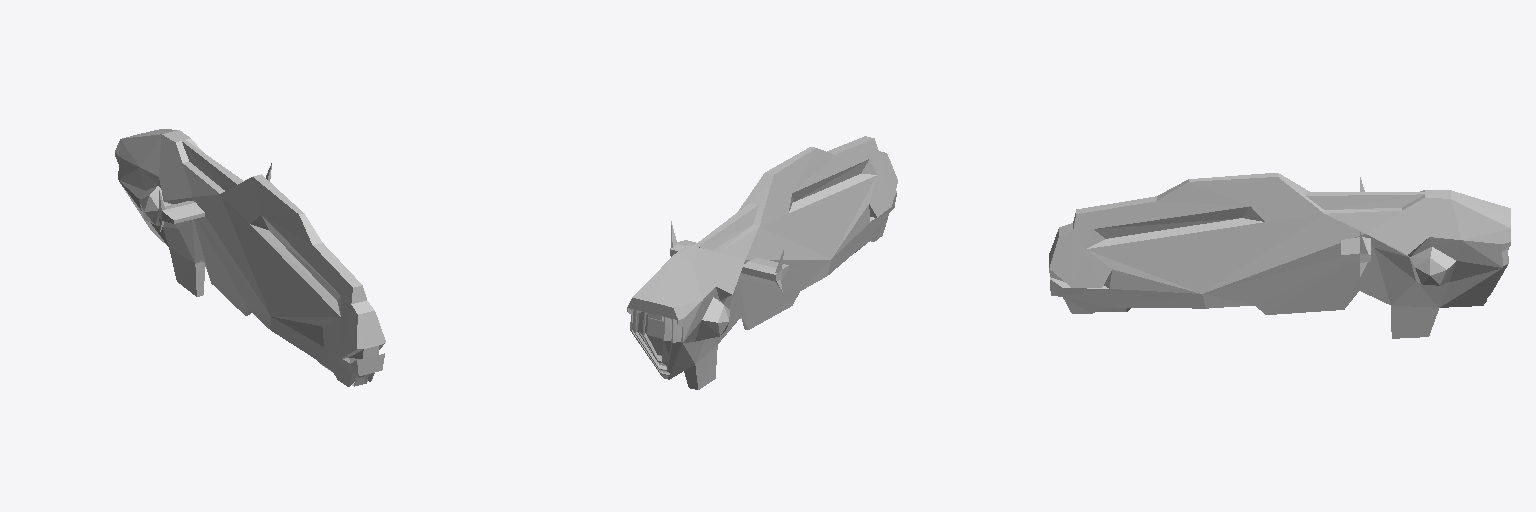
Rendered from LOD2-UVFlip.obj.
3 views of the same model, side by side, from view 1: azimuth 30°, elevation 25°; view 2: azimuth 150°, elevation 25°; view 3: azimuth 270°, elevation 25° (orthographic).
Visible parts, largest first — view 1: hw2Shader4; view 2: hw2Shader4, halfagain_haf_hw2Shader1; view 3: hw2Shader4.
Boxes of the visible parts, x1,y1,x2,y2 form: hw2Shader4: [118, 129, 385, 386]; hw2Shader4: [632, 136, 897, 389]; halfagain_haf_hw2Shader1: [627, 307, 682, 379]; hw2Shader4: [1049, 173, 1510, 338].
Bounding box in the file's own units: 320 × 439 × 1130.